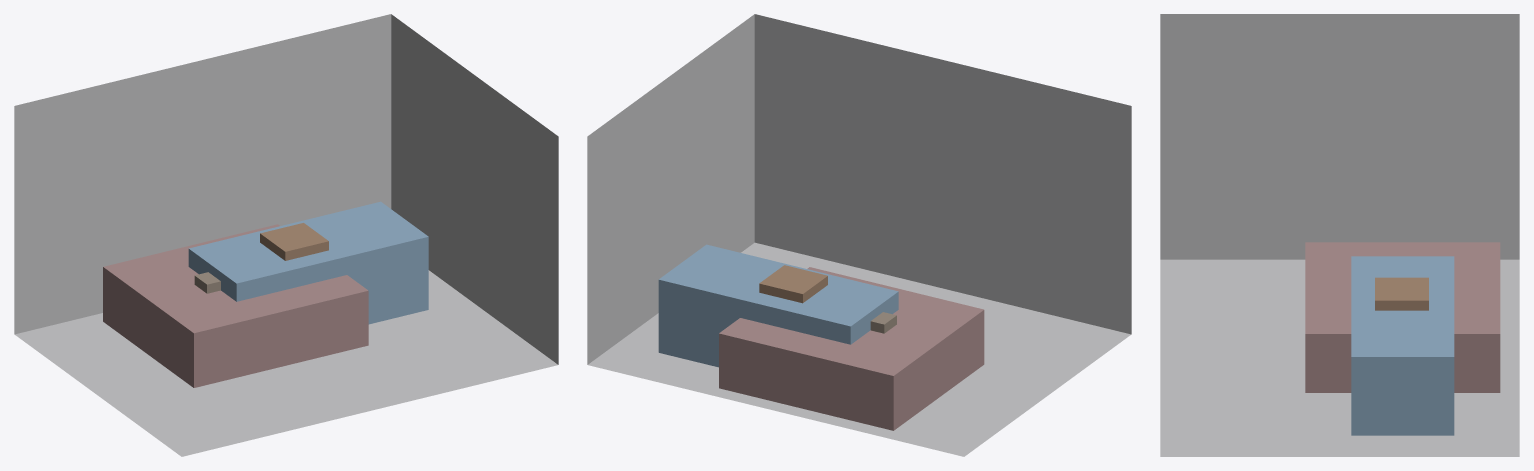
The model's file is optimised_layout.glb.
3 renders of one model, left to right at view 1: azimuth 30°, elevation 25°; view 2: azimuth 150°, elevation 25°; view 3: azimuth 270°, elevation 25°, orthographic. The views are drawn at different scales.
Visible parts, largest first — view 1: room, bed, couch, chair; view 2: room, bed, couch, chair; view 3: room, couch, bed, chair.
Boxes of the visible parts, bbox=[...] form: room: bbox=[14, 14, 558, 456]; bed: bbox=[103, 224, 368, 387]; couch: bbox=[188, 201, 428, 324]; chair: bbox=[260, 223, 328, 260]; room: bbox=[587, 14, 1131, 456]; bed: bbox=[719, 267, 984, 430]; couch: bbox=[658, 244, 898, 367]; chair: bbox=[759, 265, 827, 303]; room: bbox=[1160, 14, 1519, 456]; couch: bbox=[1351, 256, 1454, 435]; bed: bbox=[1305, 242, 1500, 392]; chair: bbox=[1375, 277, 1428, 310].
Bounding box in the file's own units: 4.31 × 2.5 × 3.32.
